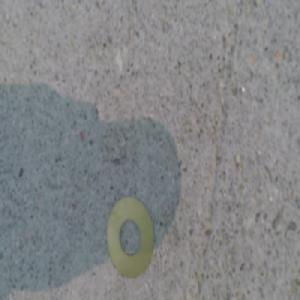Washer: (107, 191, 157, 273)
